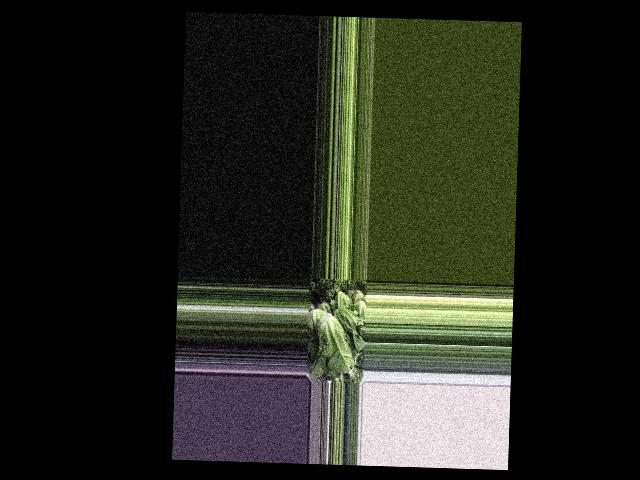lettuce: (334, 305, 364, 352)
